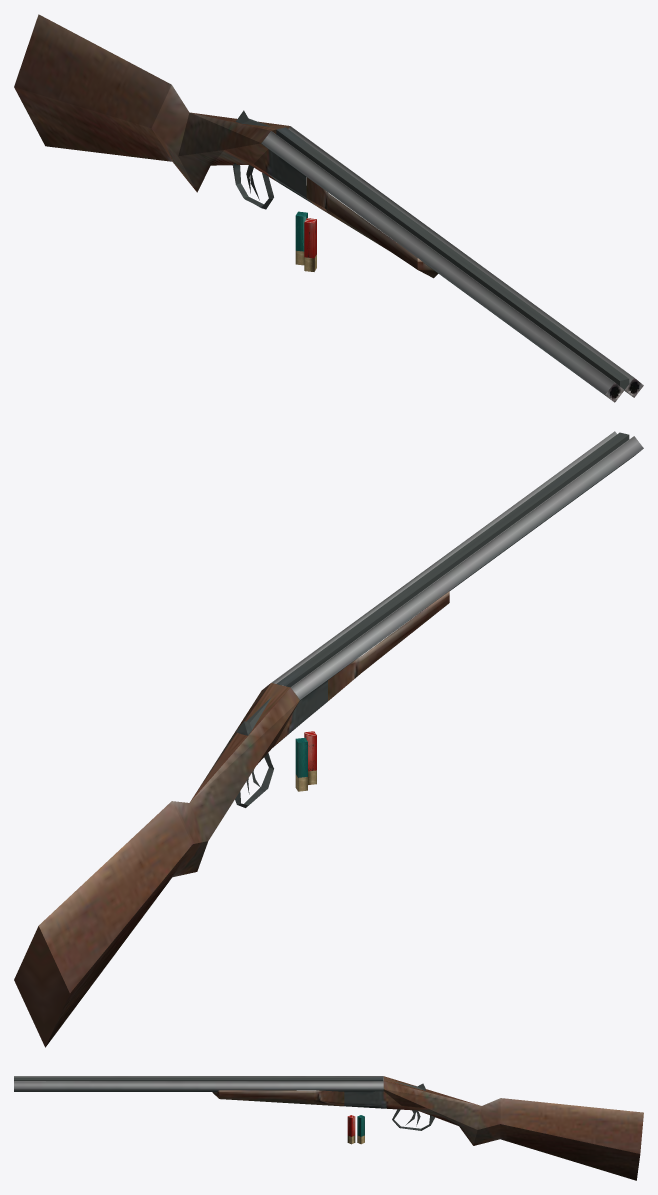
Rendered from double_barrel_shotgun.obj.
The picture shows the model from 3 angles, top to bottom: view 1: azimuth 30°, elevation 25°; view 2: azimuth 150°, elevation 25°; view 3: azimuth 270°, elevation 25°; orthographic projection. The views are drawn at different scales.
Visible parts, largest first — view 1: Body, HandGaurd&Barrel, ShellLowPolyRed.005, ShellLowPolyGreen.005; view 2: Body, HandGaurd&Barrel; view 3: Body, HandGaurd&Barrel, ShellLowPolyRed.005, ShellLowPolyGreen.005.
Part boxes in pixels (<box>): Body: <box>14,14,315,209</box>; HandGaurd&Barrel: <box>261,126,643,402</box>; ShellLowPolyRed.005: <box>304,218,316,271</box>; ShellLowPolyGreen.005: <box>295,211,307,265</box>; Body: <box>14,680,327,1047</box>; HandGaurd&Barrel: <box>271,431,643,700</box>; Body: <box>344,1076,643,1180</box>; HandGaurd&Barrel: <box>14,1076,383,1106</box>; ShellLowPolyRed.005: <box>347,1115,355,1144</box>; ShellLowPolyGreen.005: <box>357,1115,364,1144</box>.
Bounding box in the file's own units: 0.2154 × 0.7001 × 3.91.
5 materials, 5 textured.
